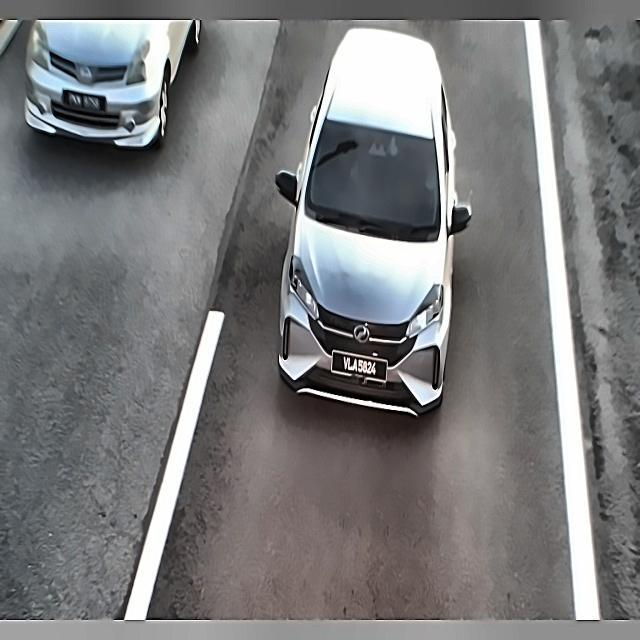car: (327, 347, 389, 389), (58, 89, 111, 120)
